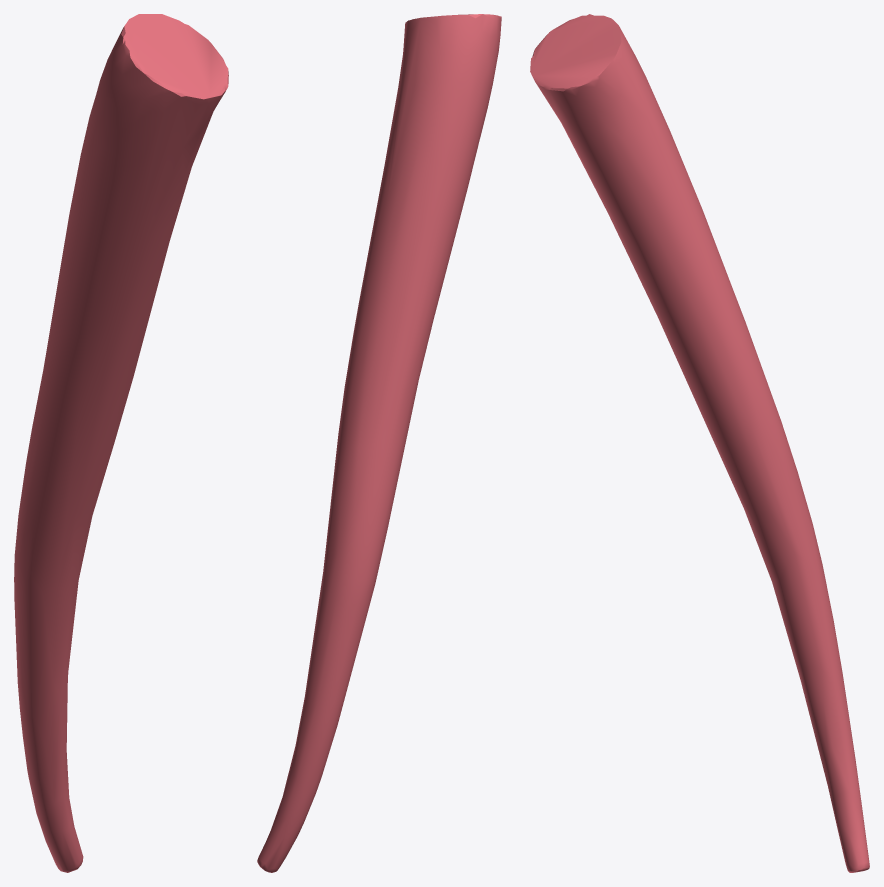
File: fma8626_fj6078.glb
3 renders of one model, left to right at view 1: azimuth 30°, elevation 25°; view 2: azimuth 150°, elevation 25°; view 3: azimuth 270°, elevation 25°, orthographic. The views are drawn at different scales.
Visible parts, largest first — view 1: FMA8626_FJ6078; view 2: FMA8626_FJ6078; view 3: FMA8626_FJ6078.
Boxes of the visible parts, bbox=[...] form: FMA8626_FJ6078: bbox=[14, 14, 228, 872]; FMA8626_FJ6078: bbox=[257, 14, 501, 872]; FMA8626_FJ6078: bbox=[530, 14, 869, 872].
Size of the model in its own units: 0.0136 by 0.0963 by 0.0362.
